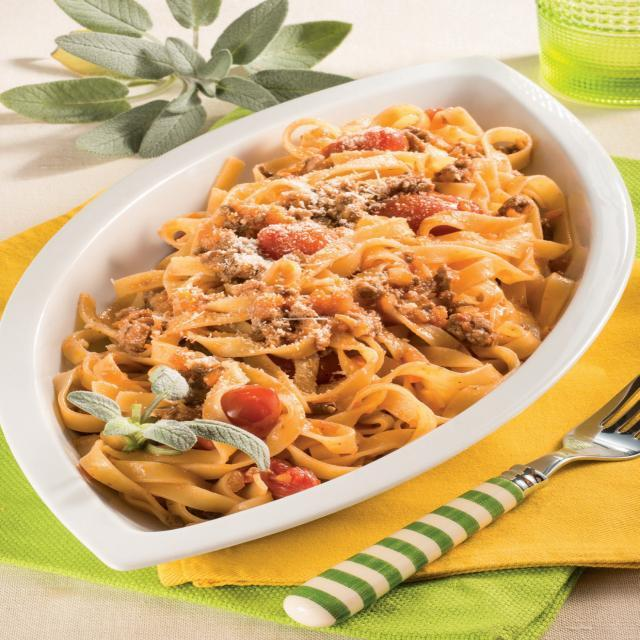Pasta al ragu: (12, 63, 587, 556)
